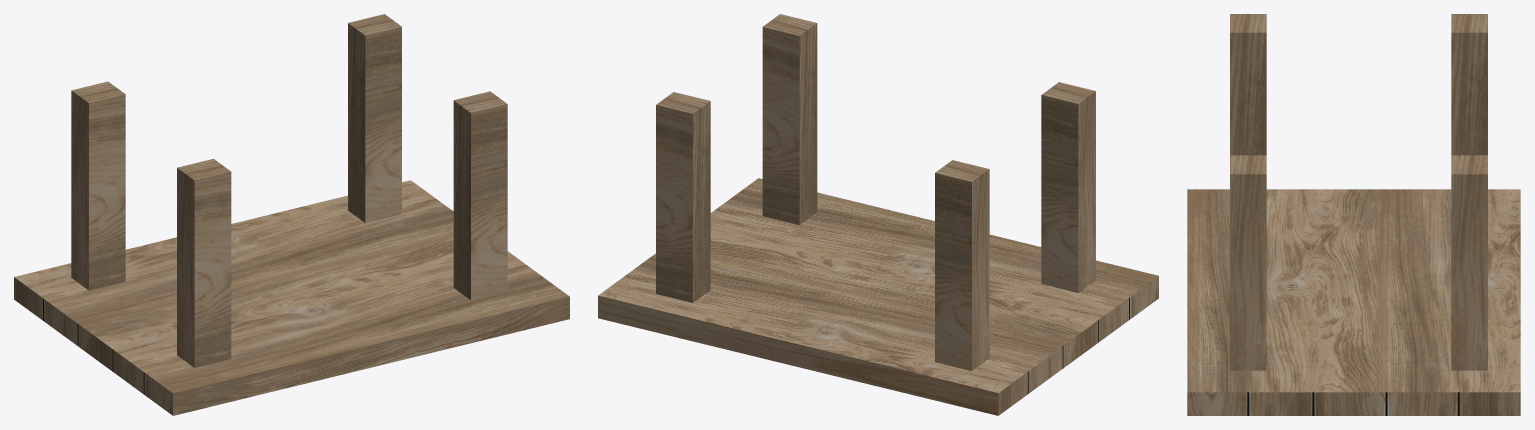
File: table.FBX
The picture shows the model from 3 angles, left to right: view 1: azimuth 30°, elevation 25°; view 2: azimuth 150°, elevation 25°; view 3: azimuth 270°, elevation 25°; orthographic projection. The views are drawn at different scales.
Visible parts, largest first — view 1: Box004; view 2: Box004; view 3: Box004.
Boxes of the visible parts, x1,y1,x2,y2 form: Box004: (14,14,569,415); Box004: (598,14,1158,415); Box004: (1187,14,1520,415).
Size of the model in its own units: 102 by 51.71 by 70.89.
